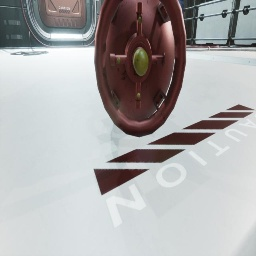NitrogenTank ,: (94, 0, 186, 138)
